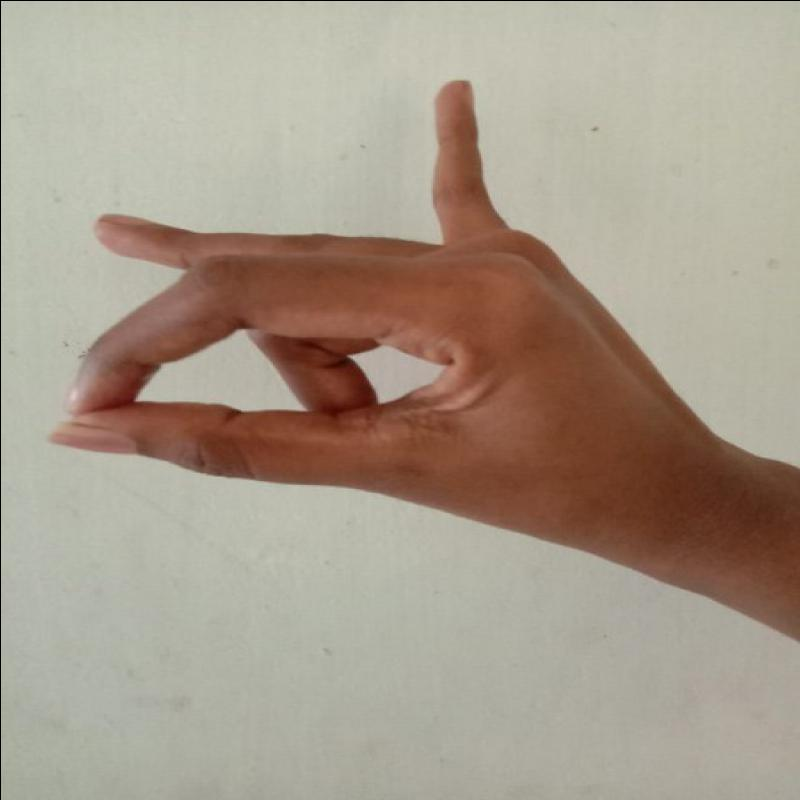Katakam: (25, 62, 680, 567)
